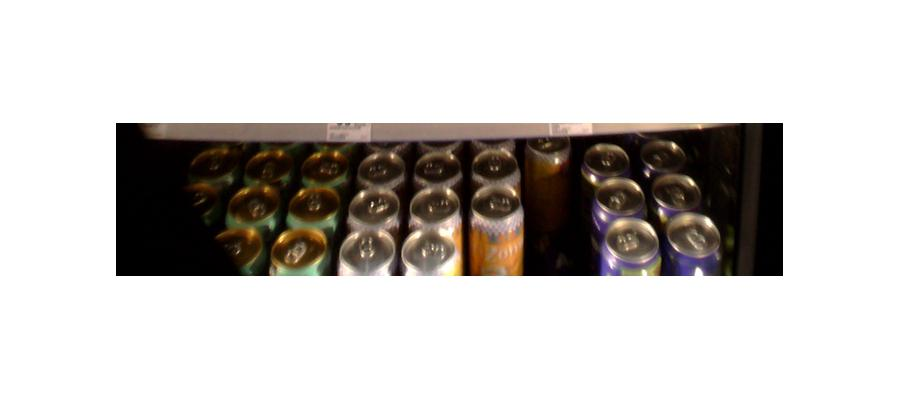bottle: (466, 155, 520, 275), (527, 133, 574, 267), (402, 183, 460, 274), (668, 201, 722, 279)
